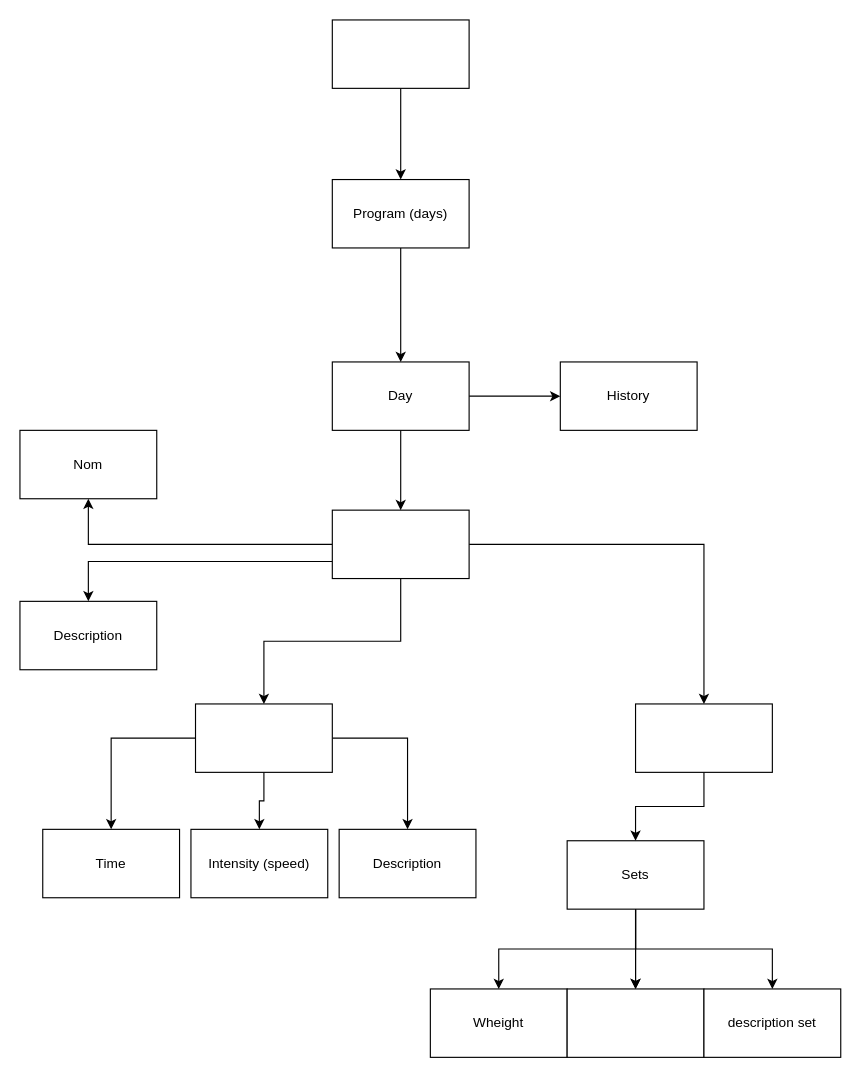
Image size: 861x1077. Some labels were removed from this diagram. The centre of each missing label's shape, as x and y in pixels:
"Cardio" goes at [263,737].
"Exercices" goes at [400,544].
"Muscu" goes at [703,737].
"Profile" goes at [400,53].
"reps" goes at [635,1022].
